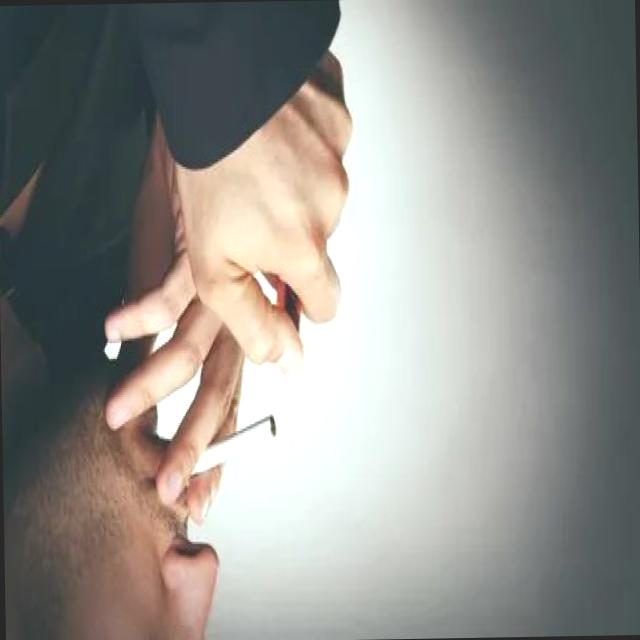cigarette: (178, 405, 278, 494)
